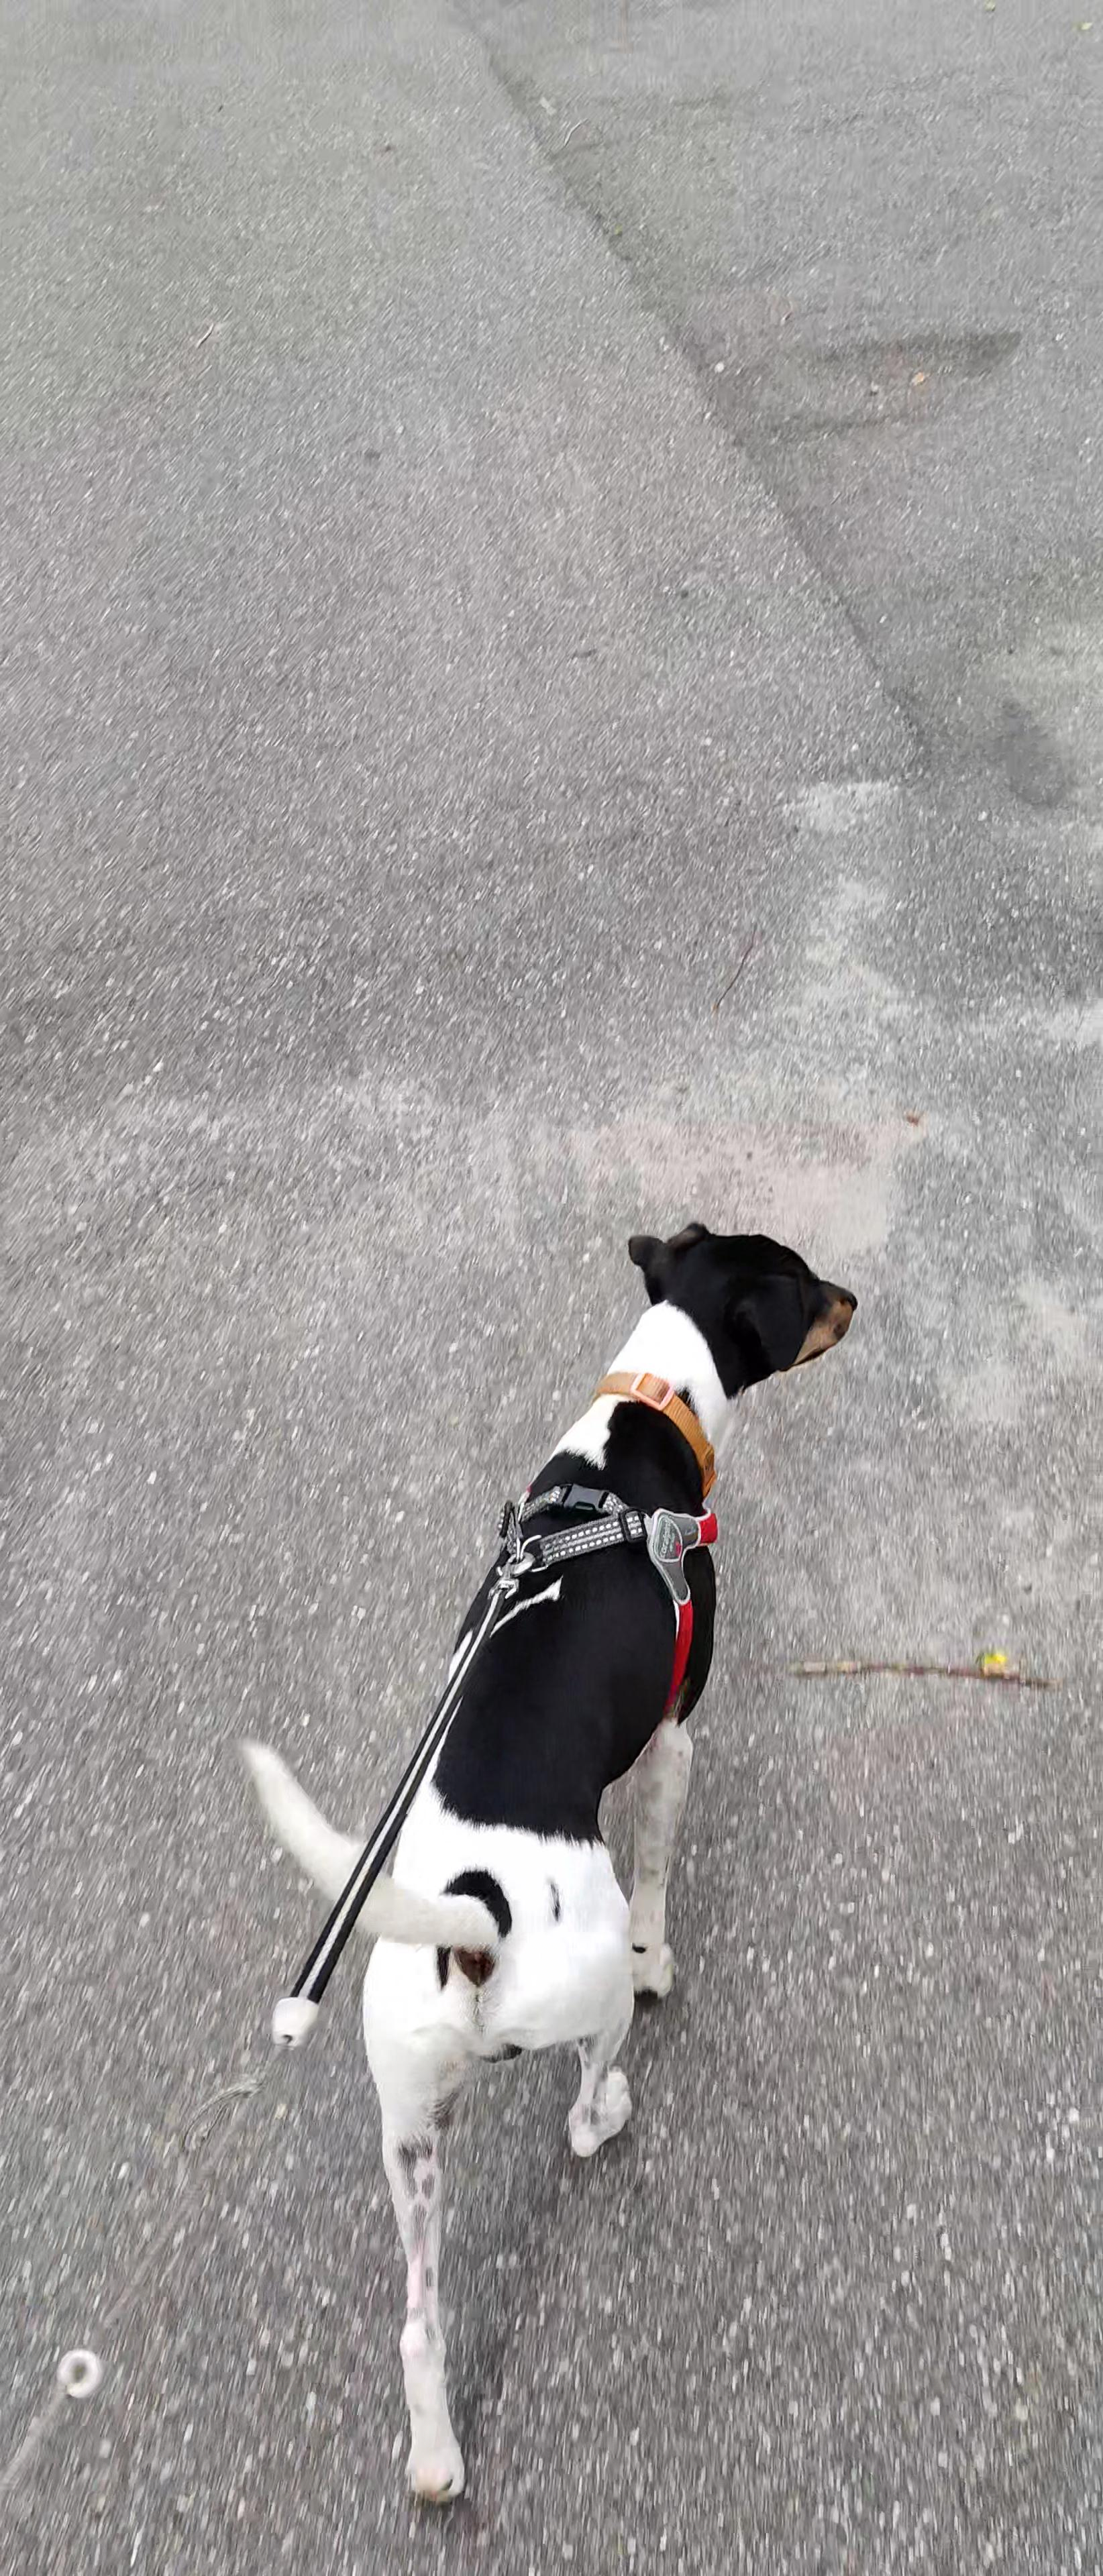Dog: (219, 1216, 866, 2507)
